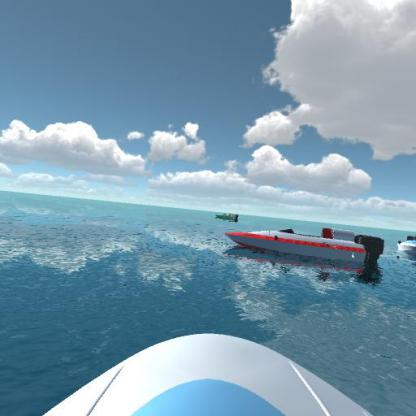usv0: (210, 208, 244, 224)
usv1: (397, 226, 415, 262)
usv3: (226, 220, 387, 275)
